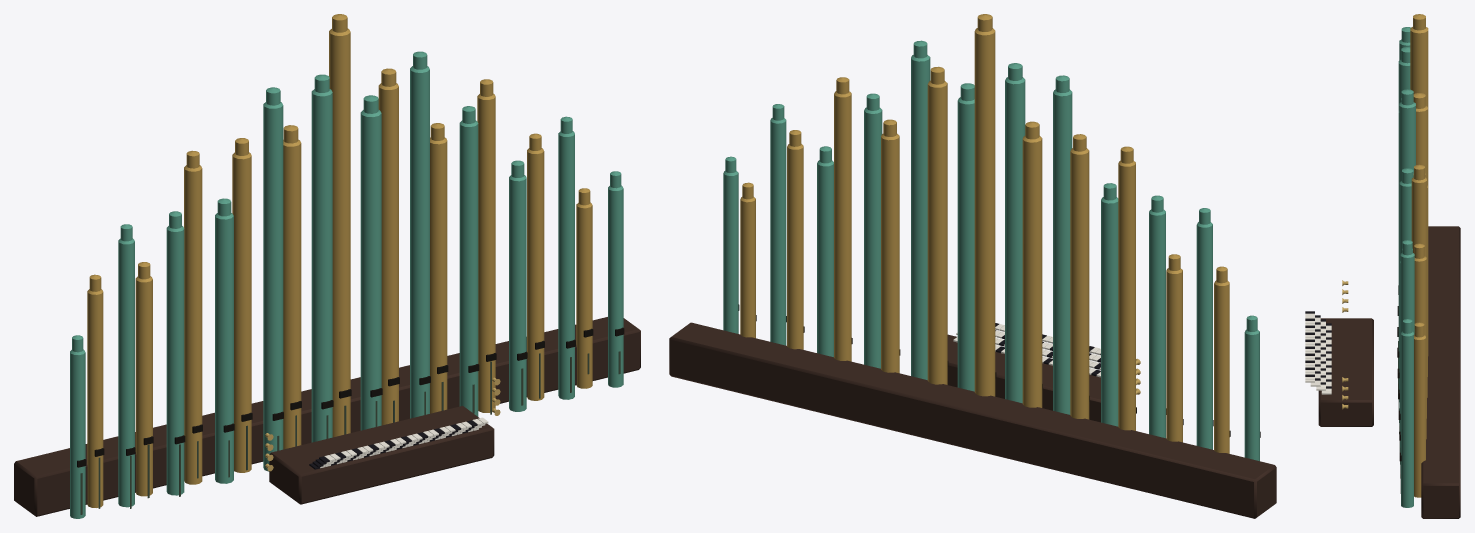
File: organ_pipes.glb
3 views of the same model, side by side, from view 1: azimuth 30°, elevation 25°; view 2: azimuth 150°, elevation 25°; view 3: azimuth 270°, elevation 25° (orthographic). The views are drawn at different scales.
Visible parts, largest first — view 1: organ_pipes; view 2: organ_pipes; view 3: organ_pipes.
Part boxes in pixels (box(x1,y1,x2,y2)): organ_pipes: box(14, 14, 640, 518); organ_pipes: box(669, 14, 1276, 518); organ_pipes: box(1305, 14, 1460, 518).
Bounding box in the file's own units: 31 × 21.1 × 7.89.
